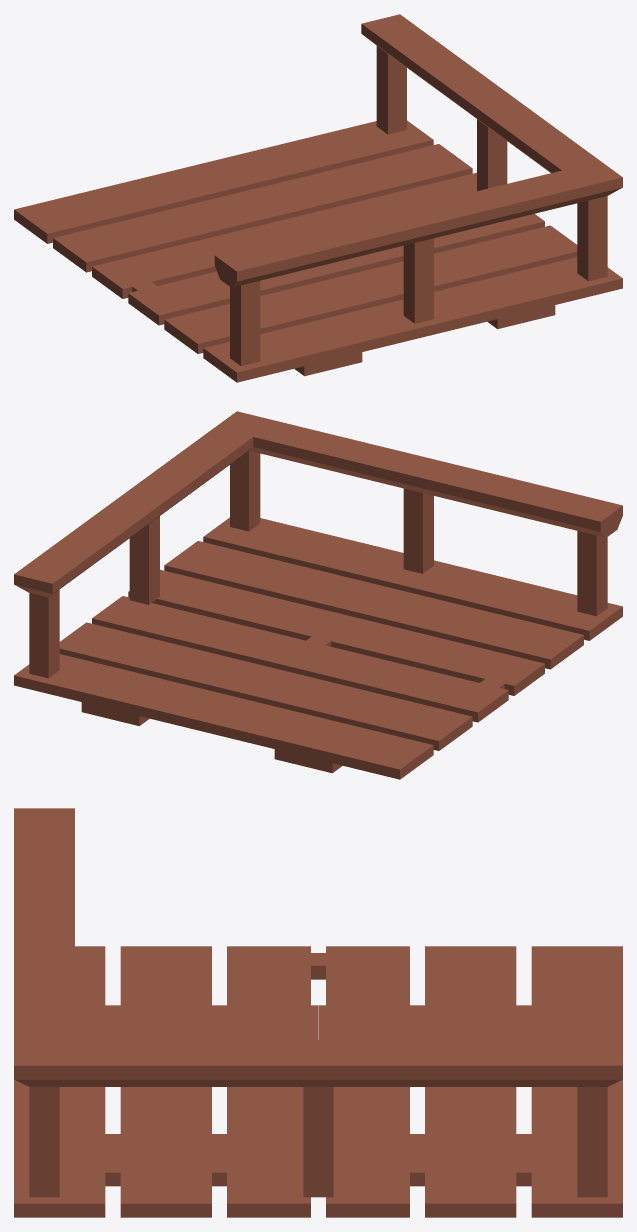
File: scaffold_low_cornerLeft 1.fbx
3 renders of one model, top to bottom at view 1: azimuth 30°, elevation 25°; view 2: azimuth 150°, elevation 25°; view 3: azimuth 270°, elevation 25°, orthographic. The views are drawn at different scales.
Parts seen in each view (by area): view 1: scaffold_low_cornerLeft; view 2: scaffold_low_cornerLeft; view 3: scaffold_low_cornerLeft.
Part boxes in pixels (x1,y1,x2,y2): scaffold_low_cornerLeft: [14, 14, 622, 382]; scaffold_low_cornerLeft: [14, 411, 622, 779]; scaffold_low_cornerLeft: [14, 808, 622, 1217].
Size of the model in its own units: 400 by 120 by 400.
